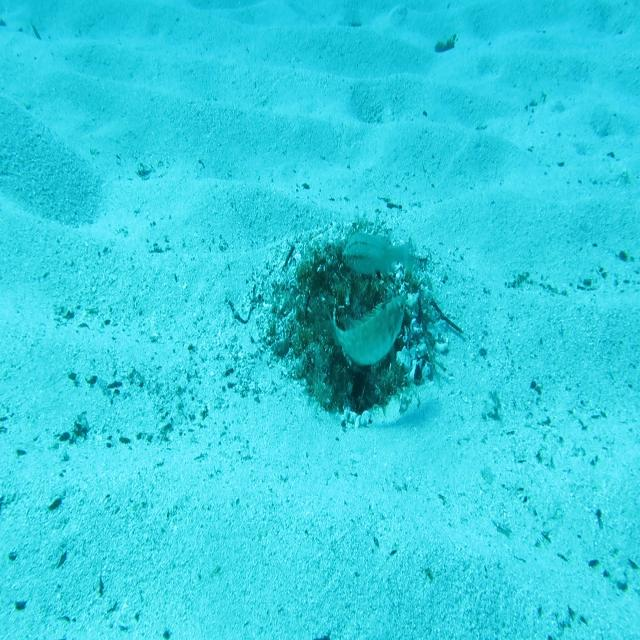vegetation: (433, 32, 456, 52)
